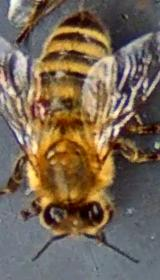varroa_mite: (22, 94, 54, 124)
